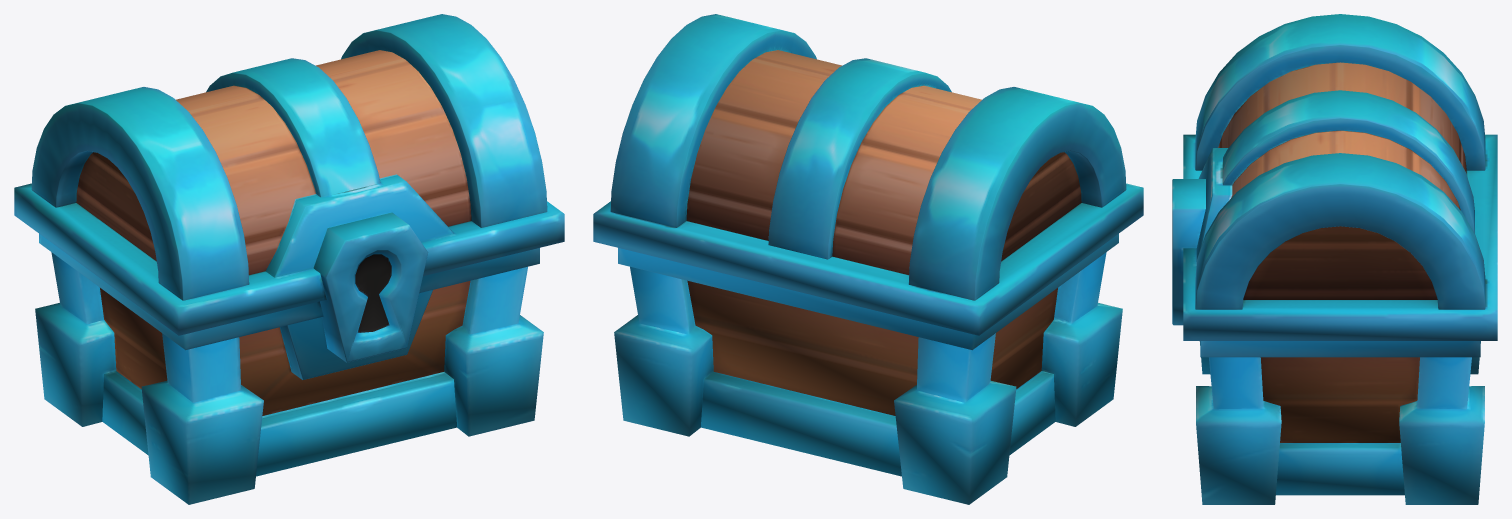
The model's file is chest3.glb.
The picture shows the model from 3 angles, left to right: view 1: azimuth 30°, elevation 25°; view 2: azimuth 150°, elevation 25°; view 3: azimuth 270°, elevation 25°; orthographic projection. The views are drawn at different scales.
Visible parts, largest first — view 1: Cube.005, Cube.006; view 2: Cube.005, Cube.006; view 3: Cube.006, Cube.005.
Part boxes in pixels (x1,y1,x2,y2): Cube.005: [14, 174, 564, 504]; Cube.006: [31, 14, 547, 300]; Cube.005: [593, 183, 1143, 504]; Cube.006: [610, 14, 1126, 300]; Cube.006: [1195, 14, 1485, 309]; Cube.005: [1172, 134, 1497, 504].
Size of the model in its own units: 5.51 by 4.65 by 4.21.
Materials: 1 (1 with a texture image).
